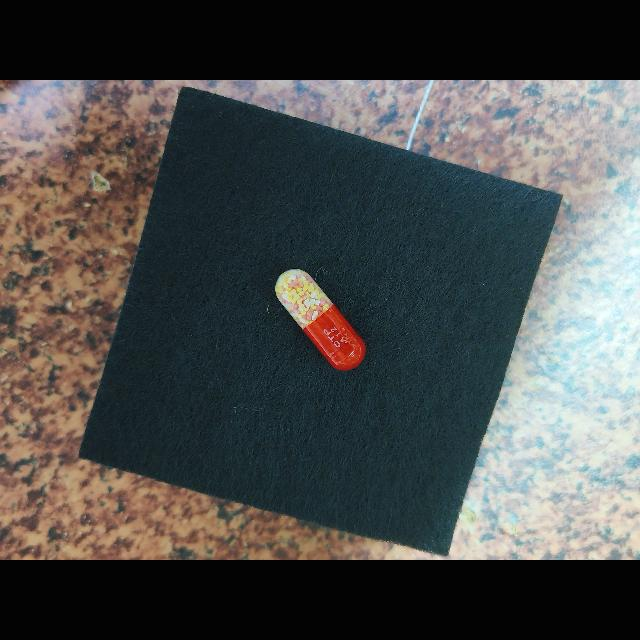Intact Capsule: (275, 269, 366, 371)
